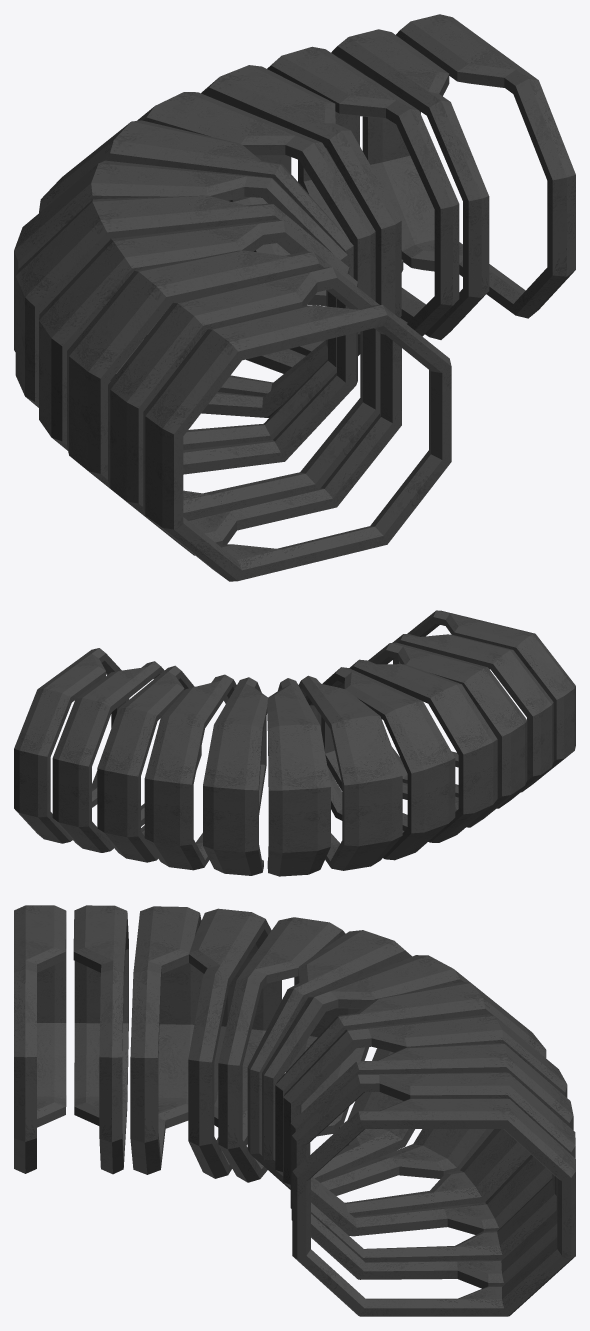
File: pipe_cover_90.fbx
3 renders of one model, top to bottom at view 1: azimuth 30°, elevation 25°; view 2: azimuth 150°, elevation 25°; view 3: azimuth 270°, elevation 25°, orthographic. The views are drawn at different scales.
Visible parts, largest first — view 1: pipe_cover_90; view 2: pipe_cover_90; view 3: pipe_cover_90.
Boxes of the visible parts, box(x1,y1,x2,y2) form: pipe_cover_90: box(14, 14, 575, 581); pipe_cover_90: box(14, 610, 575, 876); pipe_cover_90: box(14, 905, 575, 1316).
Size of the model in its own units: 393 by 157 by 391.
